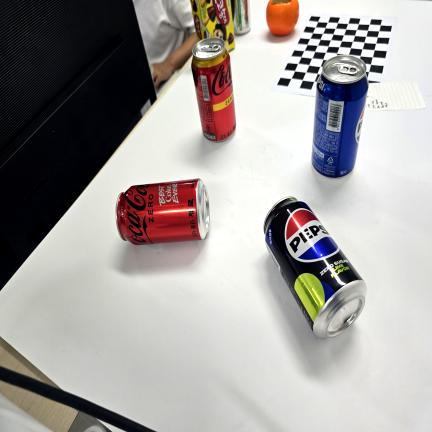can_coke_decaf: (192, 38, 236, 141)
can_coke_zero: (116, 178, 209, 245)
can_pepsi: (311, 55, 368, 178)
can_pepsi_zero: (264, 197, 366, 338)
